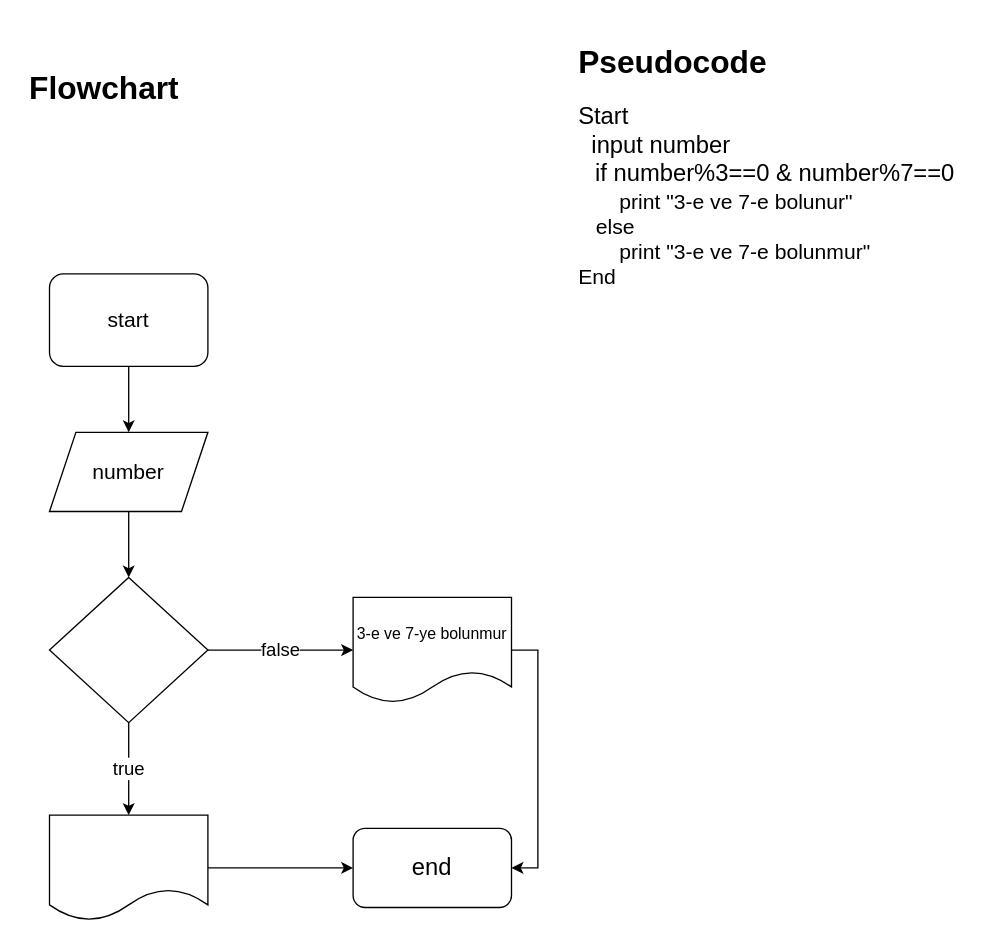
This 990x944 diagram has some shape labels left out. The shapes that lost their labels are listed below. From the top down, each one's box as (x1, y1, x2, y2) in pixels, then its label:
(48, 576, 208, 723): number%3==0 and number%7==0
(48, 814, 208, 921): 3-e ve 7-ye bolunur
